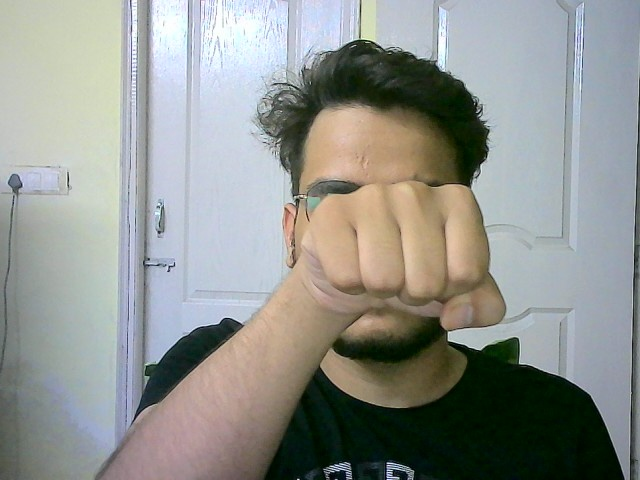Yes: (291, 178, 519, 333)
